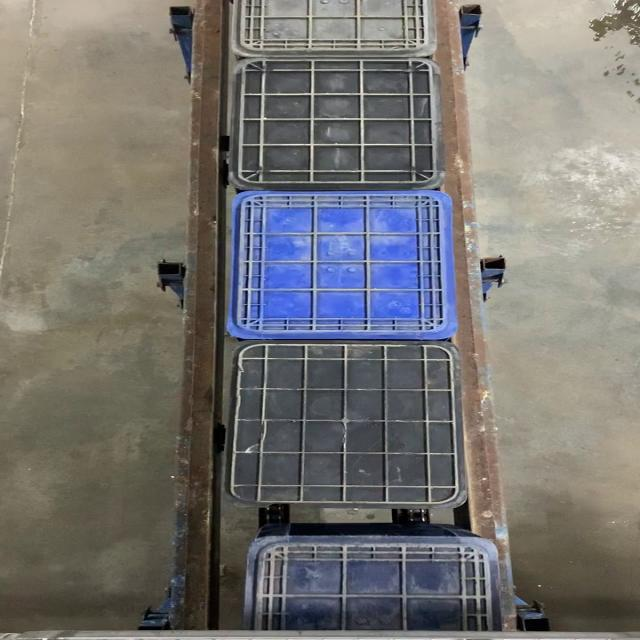Box: (221, 340, 467, 510), (227, 190, 461, 340), (229, 56, 447, 190)
